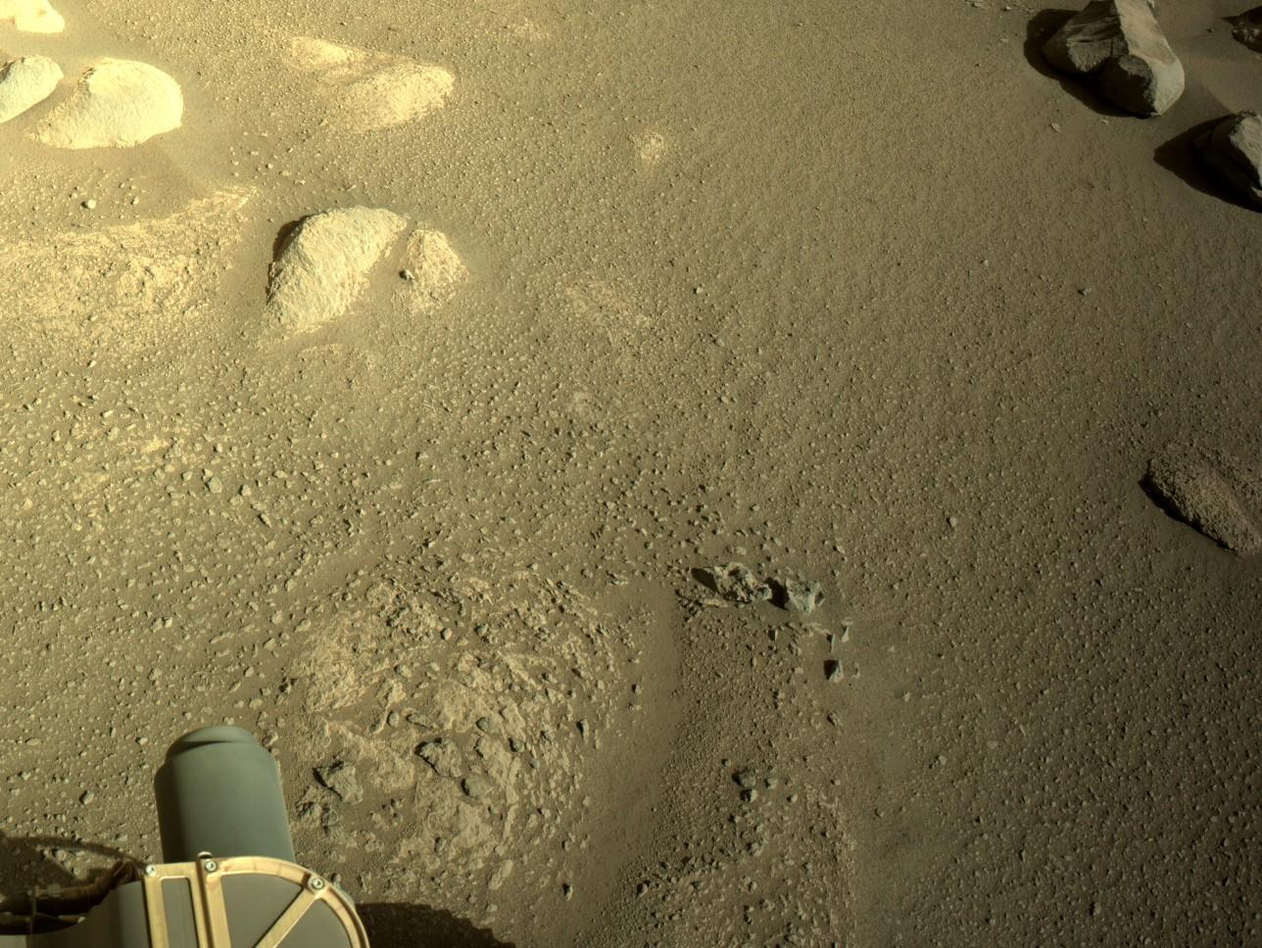bedrock: (1, 1, 501, 408), (1194, 4, 1259, 208), (150, 804, 298, 826), (272, 733, 291, 767), (282, 727, 302, 743), (348, 2, 481, 4), (18, 877, 20, 895), (1020, 11, 1022, 18)
big_rock: (1016, 1, 1257, 216)
soil: (4, 2, 1260, 946), (84, 3, 206, 5)
